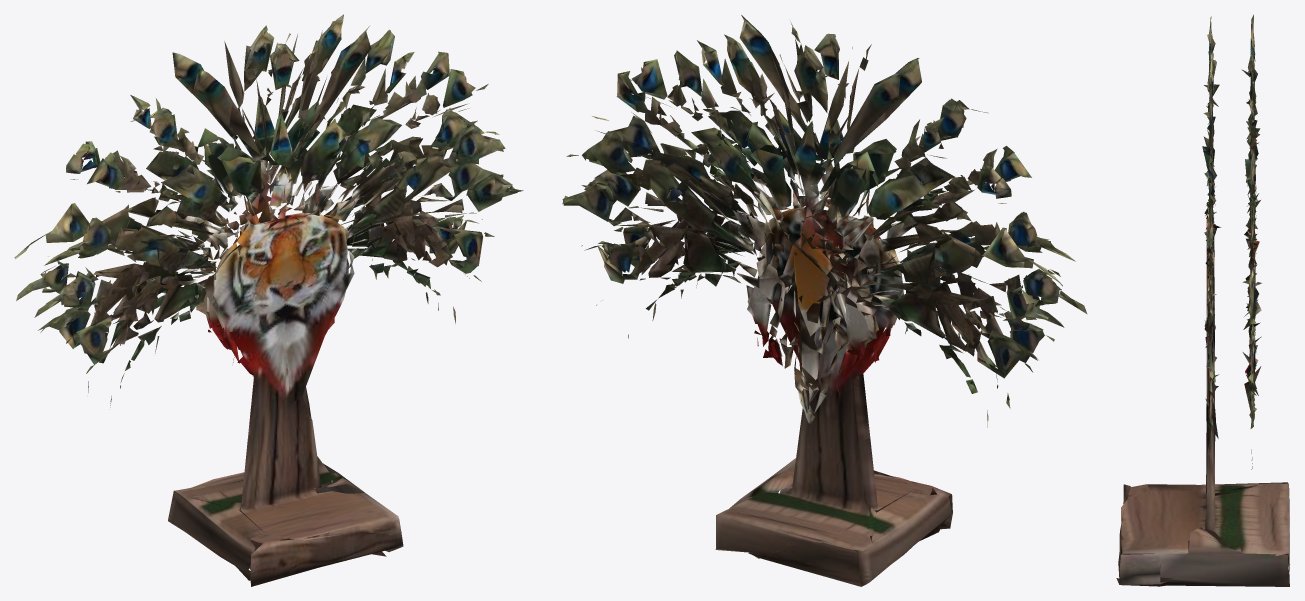
The model's file is reog-mask.glb.
3 views of the same model, side by side, from view 1: azimuth 30°, elevation 25°; view 2: azimuth 150°, elevation 25°; view 3: azimuth 270°, elevation 25° (orthographic). The views are drawn at different scales.
Visible parts, largest first — view 1: model; view 2: model; view 3: model.
Part boxes in pixels (box(x1,y1,x2,y2)): model: box(14, 14, 523, 586); model: box(562, 15, 1087, 586); model: box(1116, 14, 1289, 586).
Size of the model in its own units: 1.04 by 0.9941 by 0.3119.
1 material, 1 textured.
